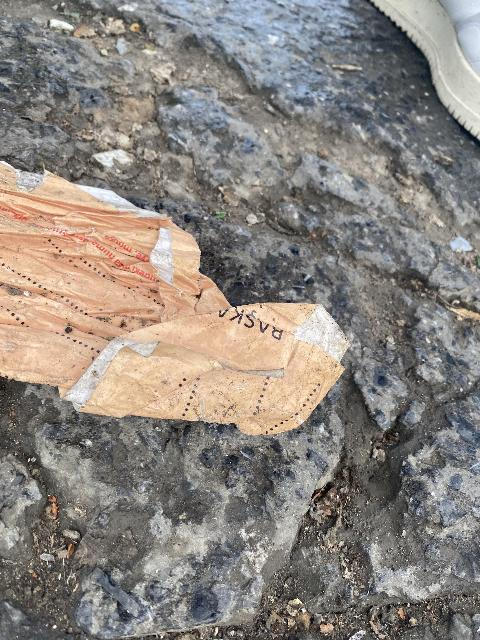Kagit: (0, 149, 357, 440)
